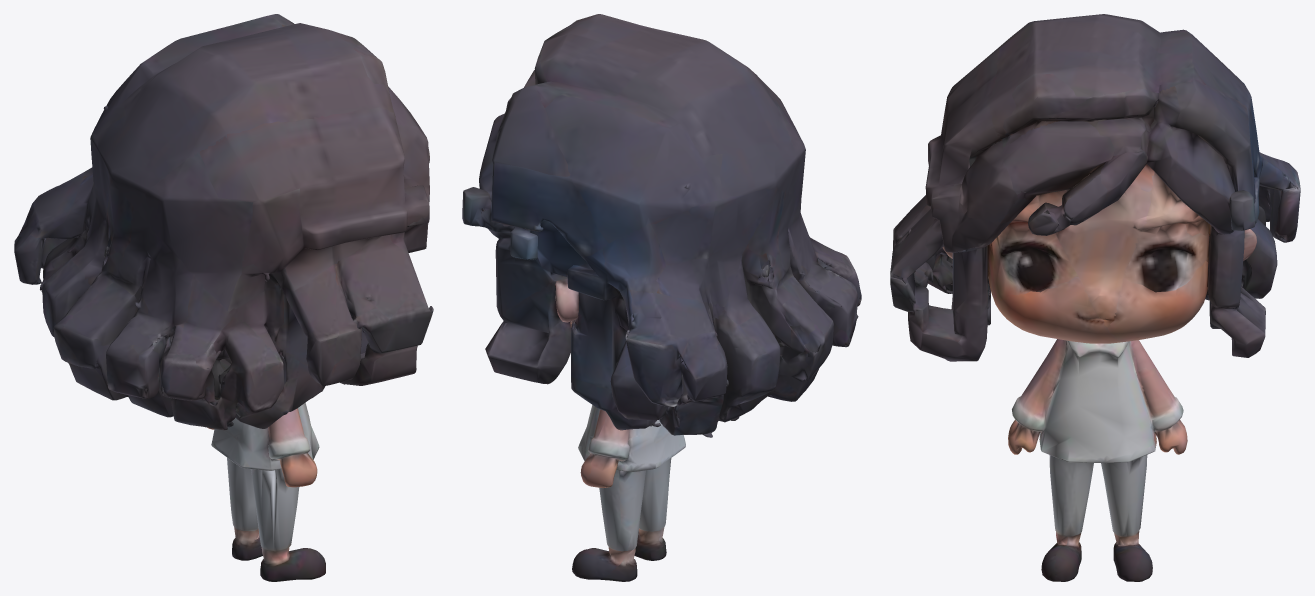
The model's file is hair_f6-web.glb.
3 renders of one model, left to right at view 1: azimuth 30°, elevation 25°; view 2: azimuth 150°, elevation 25°; view 3: azimuth 270°, elevation 25°, orthographic.
Parts seen in each view (by area): view 1: tripo_node_7146ba1f-1917-4bcd-ad2b-f7cab39c4f93; view 2: tripo_node_7146ba1f-1917-4bcd-ad2b-f7cab39c4f93; view 3: tripo_node_7146ba1f-1917-4bcd-ad2b-f7cab39c4f93.
Boxes of the visible parts, x1,y1,x2,y2 form: tripo_node_7146ba1f-1917-4bcd-ad2b-f7cab39c4f93: [14, 14, 433, 581]; tripo_node_7146ba1f-1917-4bcd-ad2b-f7cab39c4f93: [462, 14, 861, 581]; tripo_node_7146ba1f-1917-4bcd-ad2b-f7cab39c4f93: [890, 14, 1300, 581].
Bounding box in the file's own units: 0.6798 × 0.9995 × 0.7086.
Materials: 1 (1 with a texture image).
